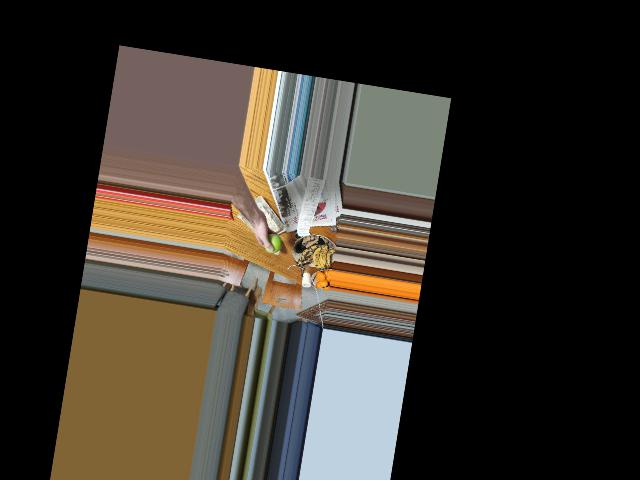apple: (260, 230, 284, 256)
